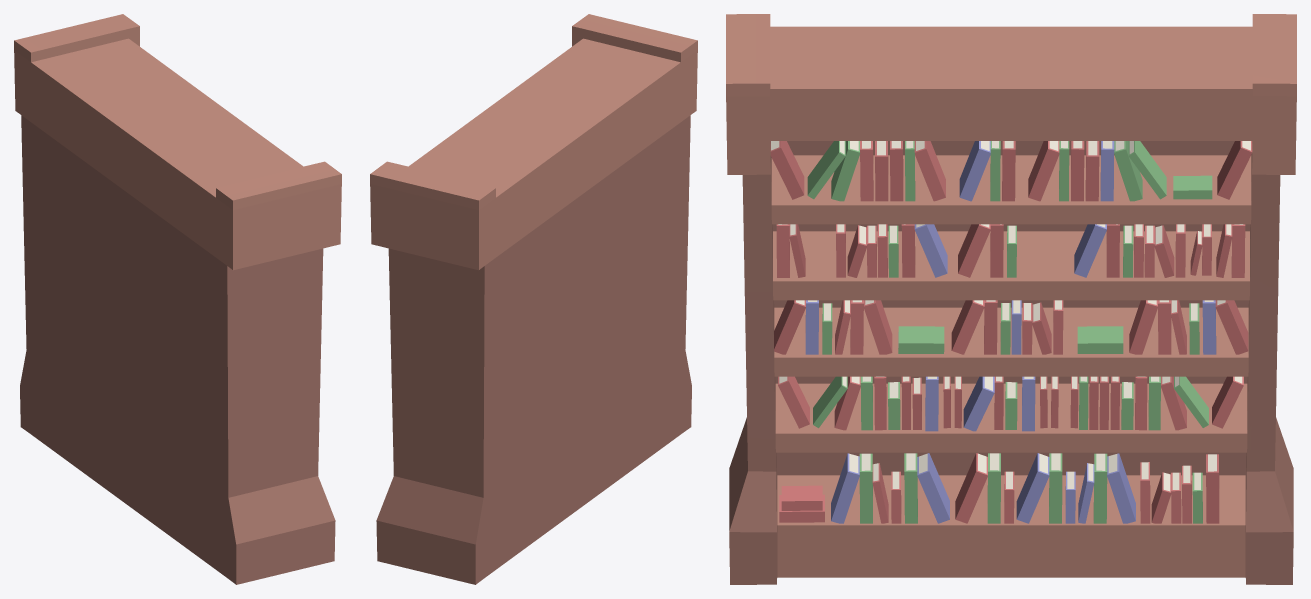
Rendered from BookCaseLargeBooks.glb.
The picture shows the model from 3 angles, left to right: view 1: azimuth 30°, elevation 25°; view 2: azimuth 150°, elevation 25°; view 3: azimuth 270°, elevation 25°; orthographic projection. The views are drawn at different scales.
Visible parts, largest first — view 1: DarkWood.005, Wood.007; view 2: DarkWood.005, Wood.007; view 3: Wood.007, DarkWood.005, Sofa.001, Cover3.001, Cover4.001, Cover2.001, Pages.001.
Boxes of the visible parts, box(x1,y1,x2,y2) form: DarkWood.005: box(20, 115, 335, 584); Wood.007: box(14, 14, 341, 270); DarkWood.005: box(376, 115, 691, 584); Wood.007: box(370, 14, 697, 270); Wood.007: box(726, 14, 1296, 577); DarkWood.005: box(729, 141, 1293, 584); Sofa.001: box(776, 141, 1245, 523); Cover3.001: box(807, 141, 1212, 523); Cover4.001: box(770, 141, 1252, 523); Cover2.001: box(805, 141, 1216, 523); Pages.001: box(771, 141, 1250, 491).
Bounding box in the file's own units: 0.4519 × 1.53 × 1.57.
